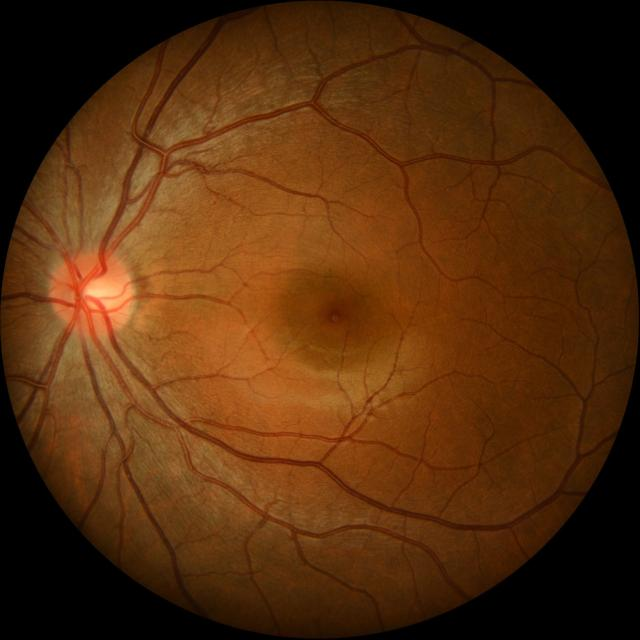OC: (81, 278, 112, 313)
OD: (50, 250, 134, 337)
